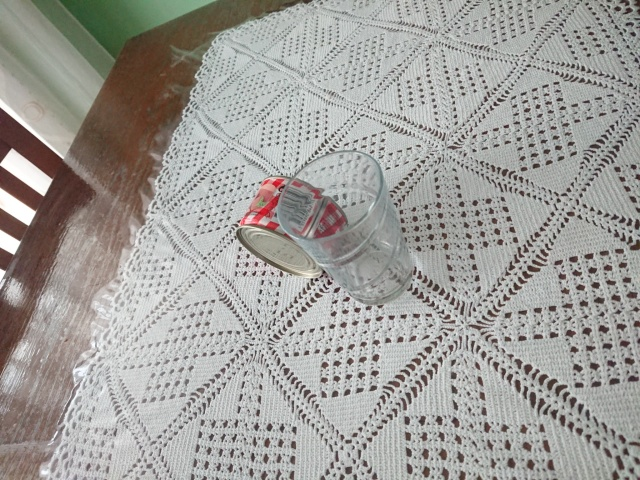Podravka Luncheon Meat 150g: (231, 174, 353, 280)
